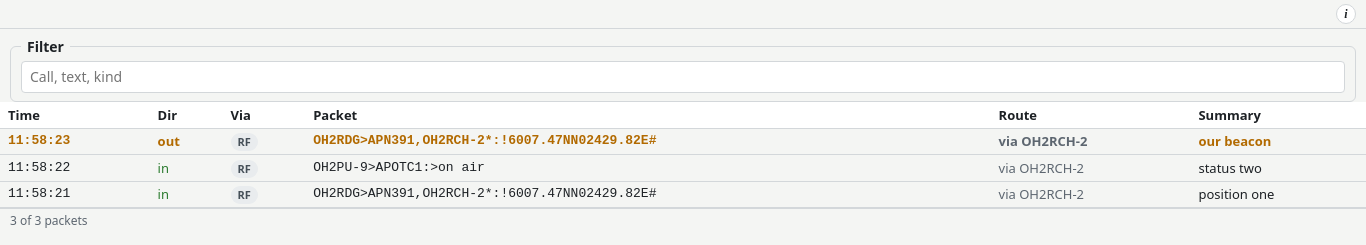
Scenario: PacketsLog › filters by the text of the box
Type "on air" into the search field with placeholder "Call, text, kind" at (683, 77), box [21,61,1345,93]
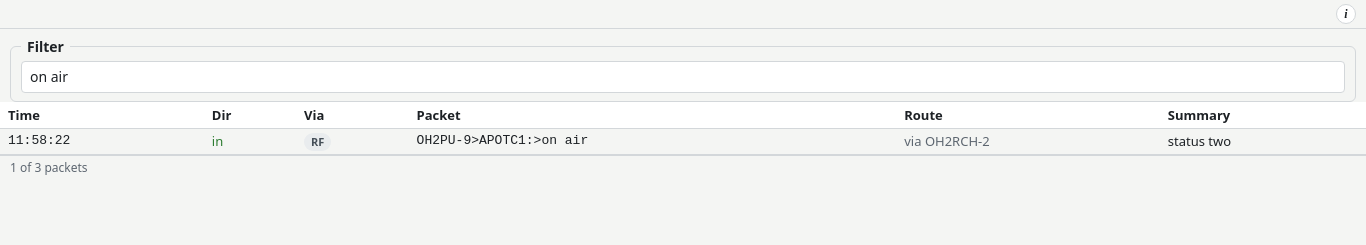
expect the text with class "foot" reads "1 of 3 packets": met, box [10,159,88,176]
